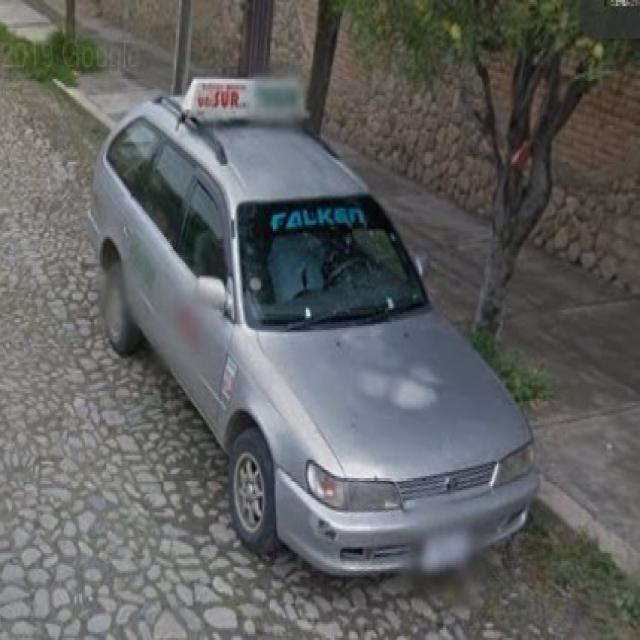cars: (119, 85, 541, 604)
